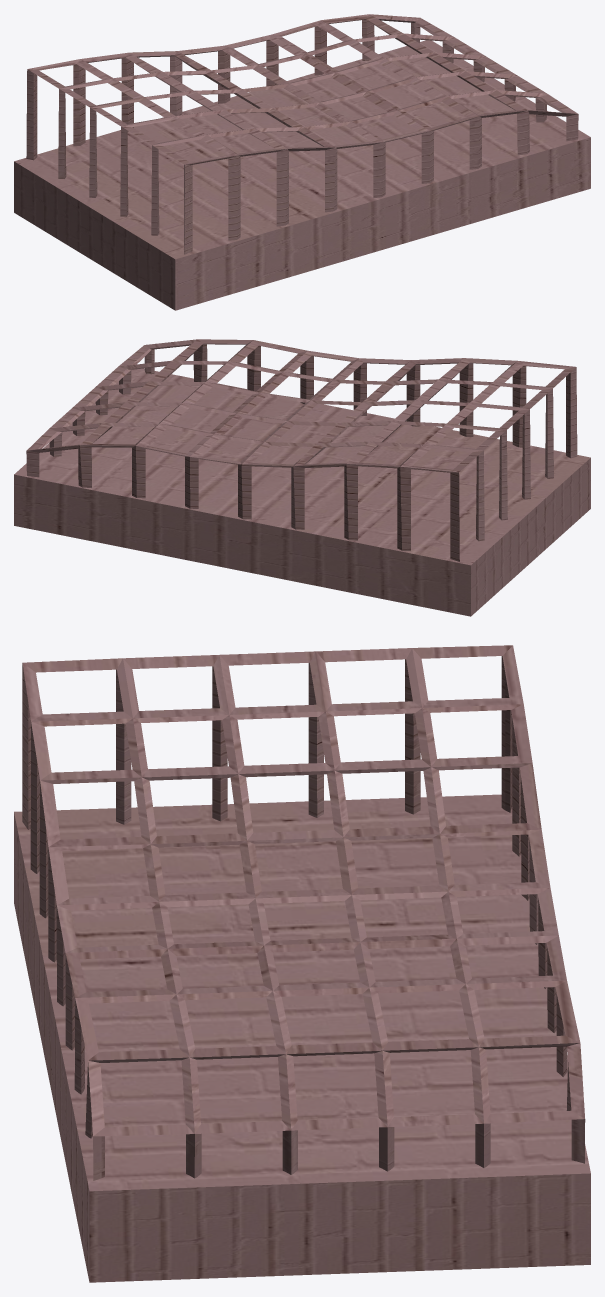
File: CasaRosada-OLD.gltf
3 views of the same model, one above another, from view 1: azimuth 30°, elevation 25°; view 2: azimuth 150°, elevation 25°; view 3: azimuth 270°, elevation 25° (orthographic). The views are drawn at different scales.
Parts seen in each view (by area): view 1: CasaRosada; view 2: CasaRosada; view 3: CasaRosada.
Part boxes in pixels (x1=…): CasaRosada: x1=14, y1=14, x2=590, y2=310; CasaRosada: x1=14, y1=339, x2=590, y2=616; CasaRosada: x1=14, y1=645, x2=590, y2=1282.
Size of the model in its own units: 1.08 by 0.319 by 0.6635.
Materials: 1 (1 with a texture image).
